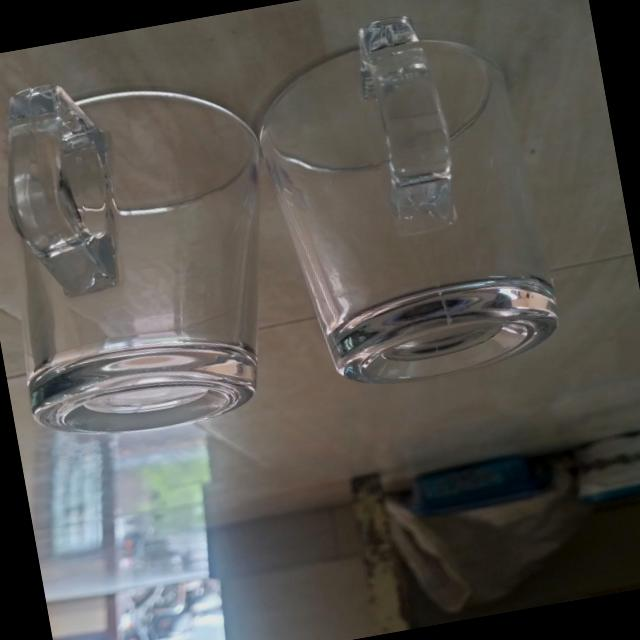glass-VX4N: (239, 0, 567, 403), (0, 46, 302, 452)
